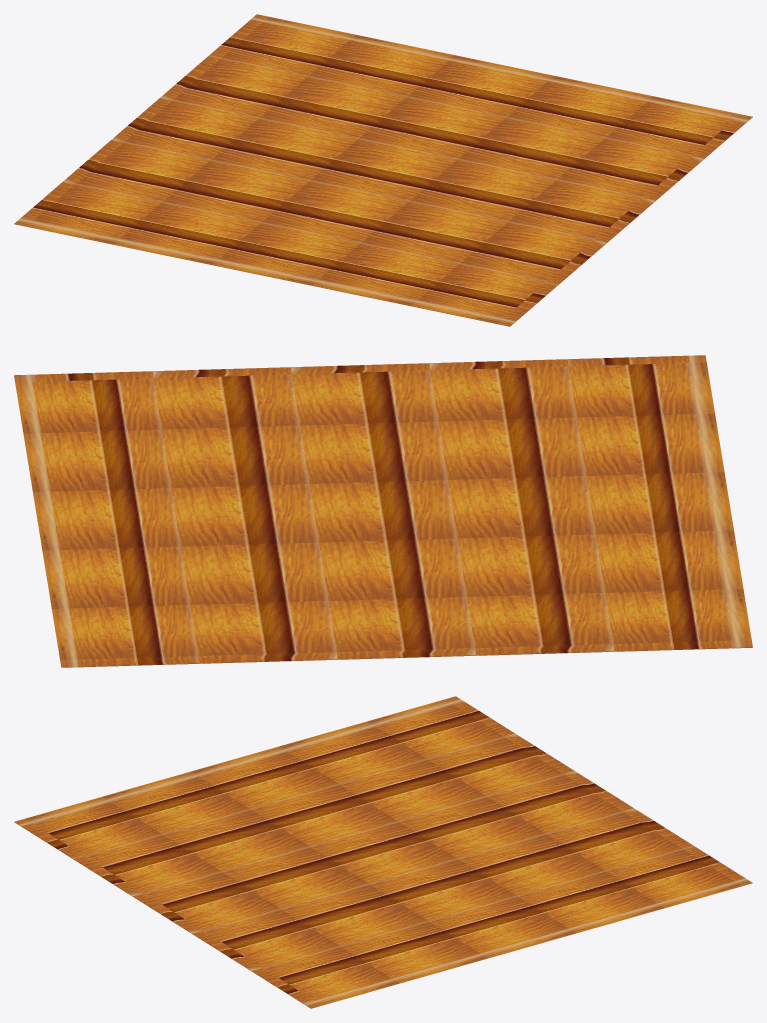
The picture shows the model from 3 angles, top to bottom: view 1: azimuth 30°, elevation 25°; view 2: azimuth 150°, elevation 25°; view 3: azimuth 270°, elevation 25°; orthographic projection. The views are drawn at different scales.
Visible parts, largest first — view 1: Joint_0_Object_0; view 2: Joint_0_Object_0; view 3: Joint_0_Object_0.
Boxes of the visible parts, <box> form: Joint_0_Object_0: <box>14,14,752,326</box>; Joint_0_Object_0: <box>14,355,752,667</box>; Joint_0_Object_0: <box>14,696,752,1008</box>.
Bounding box in the file's own units: 3775 × 1.51 × 3775.
